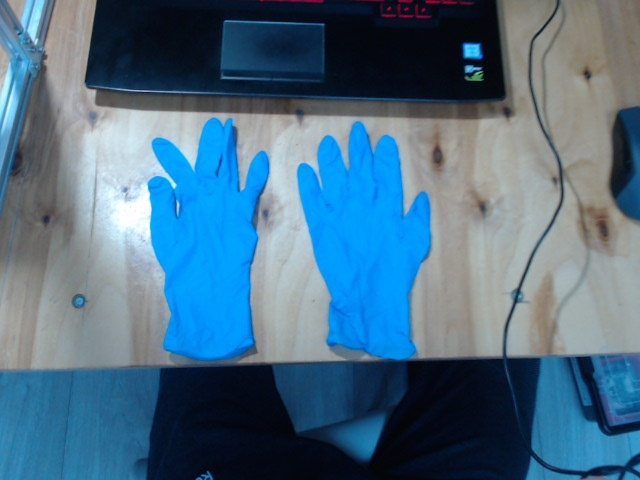medical_glove: (298, 121, 430, 361), (148, 118, 269, 355)
